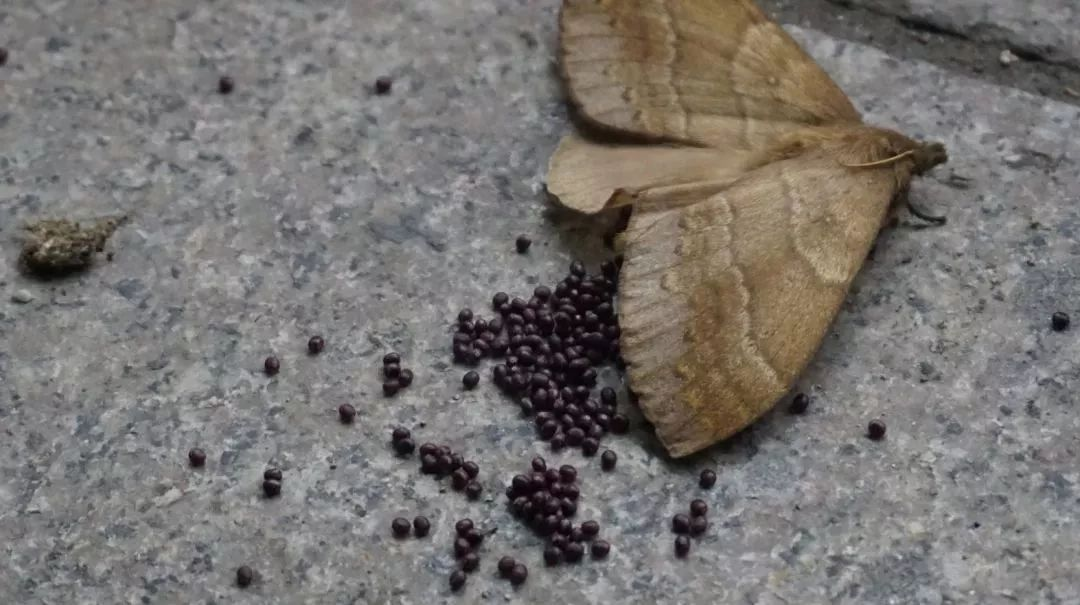feie: (534, 4, 945, 451)
